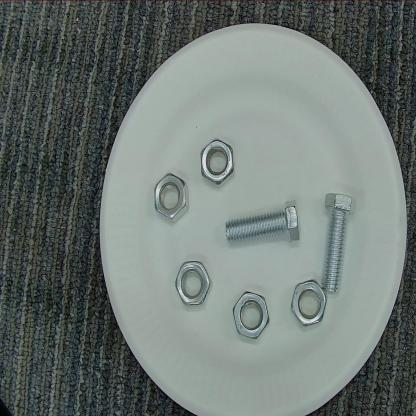FOD: (318, 186, 363, 294), (219, 197, 306, 244), (150, 170, 196, 227), (196, 132, 241, 187), (229, 287, 275, 339), (172, 256, 215, 308), (287, 278, 329, 330)
